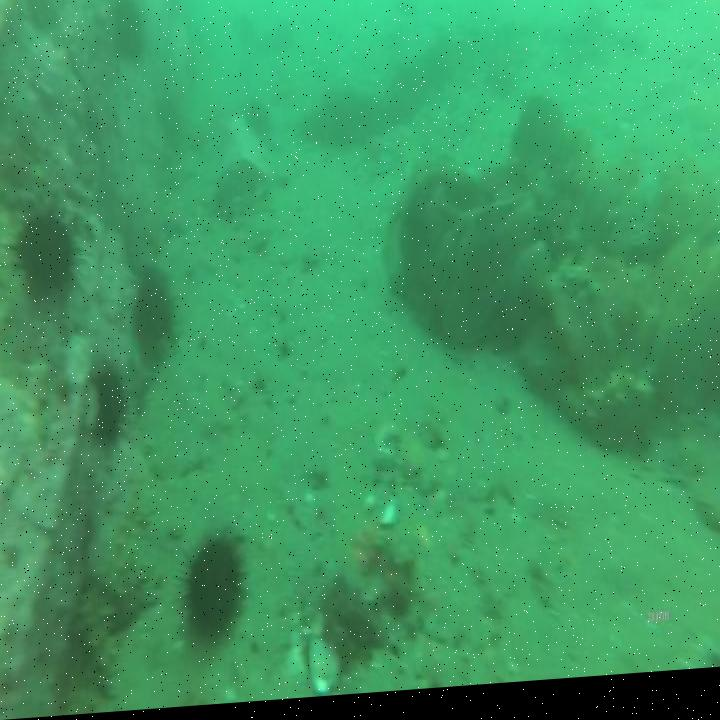echinus: (170, 519, 256, 666), (4, 198, 87, 309), (122, 254, 180, 366), (85, 354, 145, 459), (108, 0, 144, 70)
holothurian: (93, 538, 165, 635), (69, 590, 119, 709)
